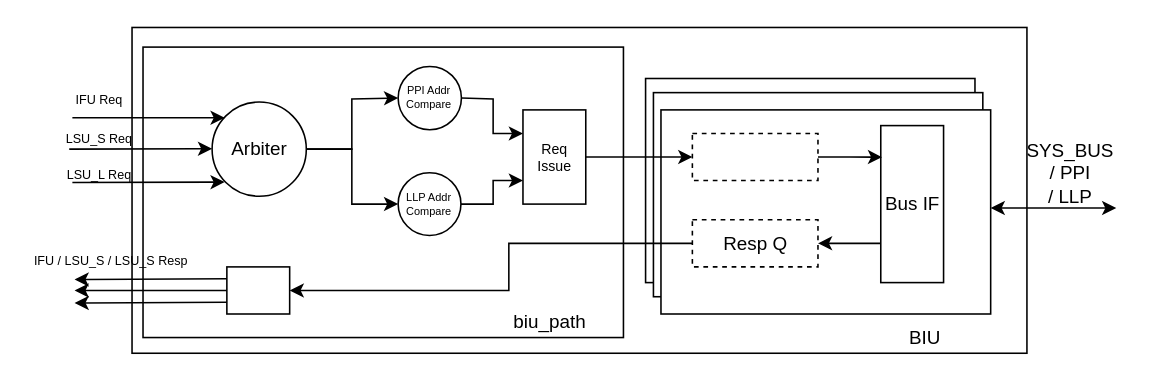
The diagram is 1159 pixels wide and 382 high, and some of its shapes have lost their labels. The shapes that lost their labels are listed below. From the top down, each one's centre as x and y in pixels, then its label:
point 754,156: CMD Q
point 825,211: biu_wrapper
point 257,289: Resp gen
